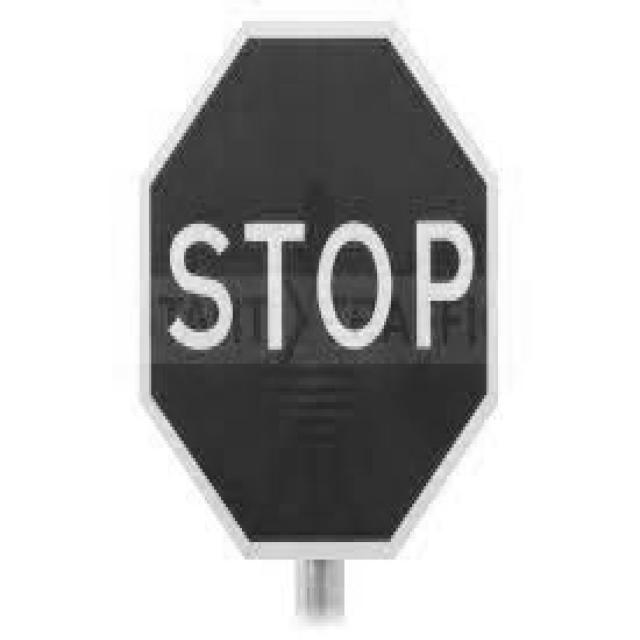stop sign: (145, 31, 501, 552)
